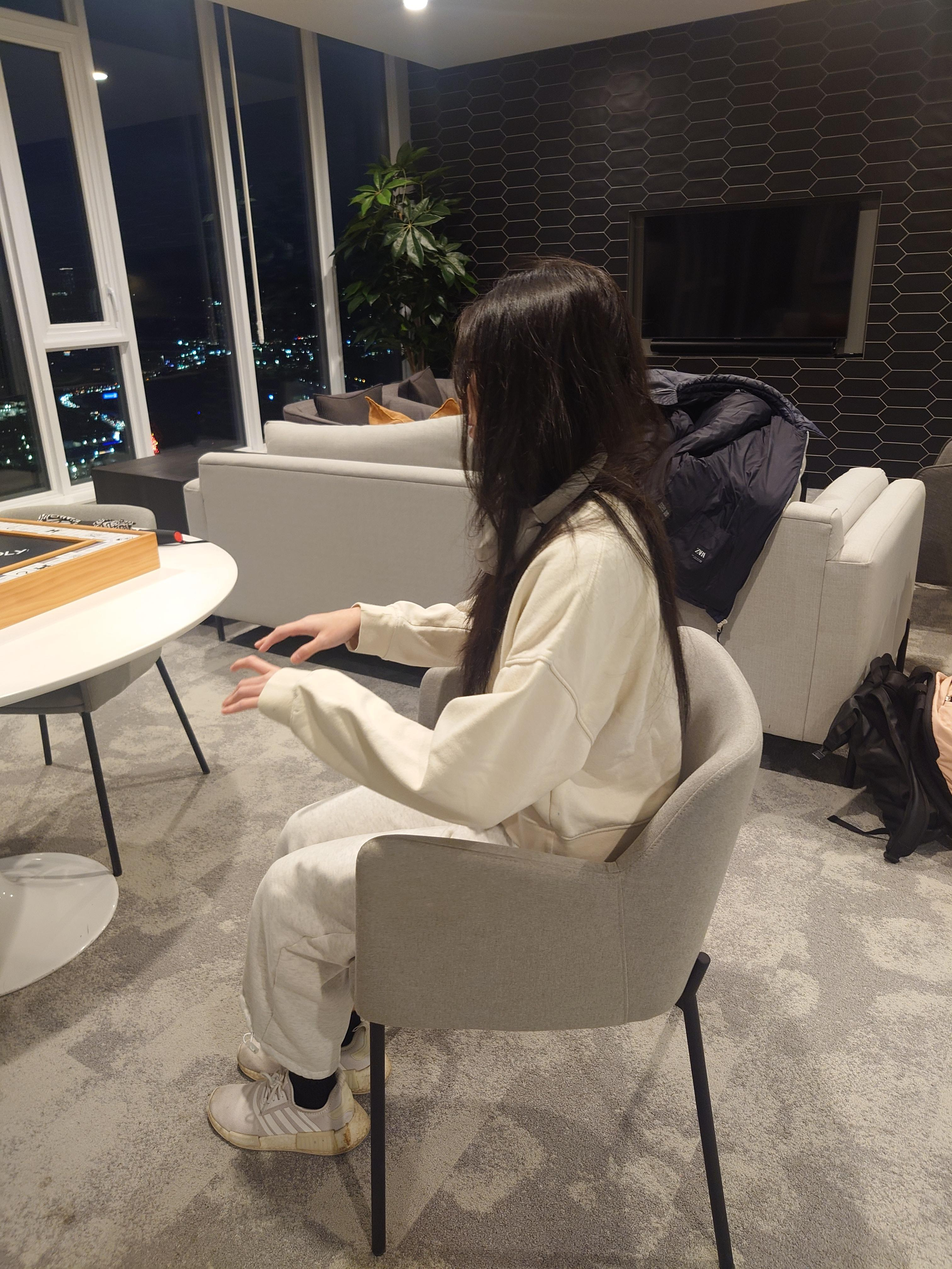GoodPosture: (203, 255, 687, 1157)
